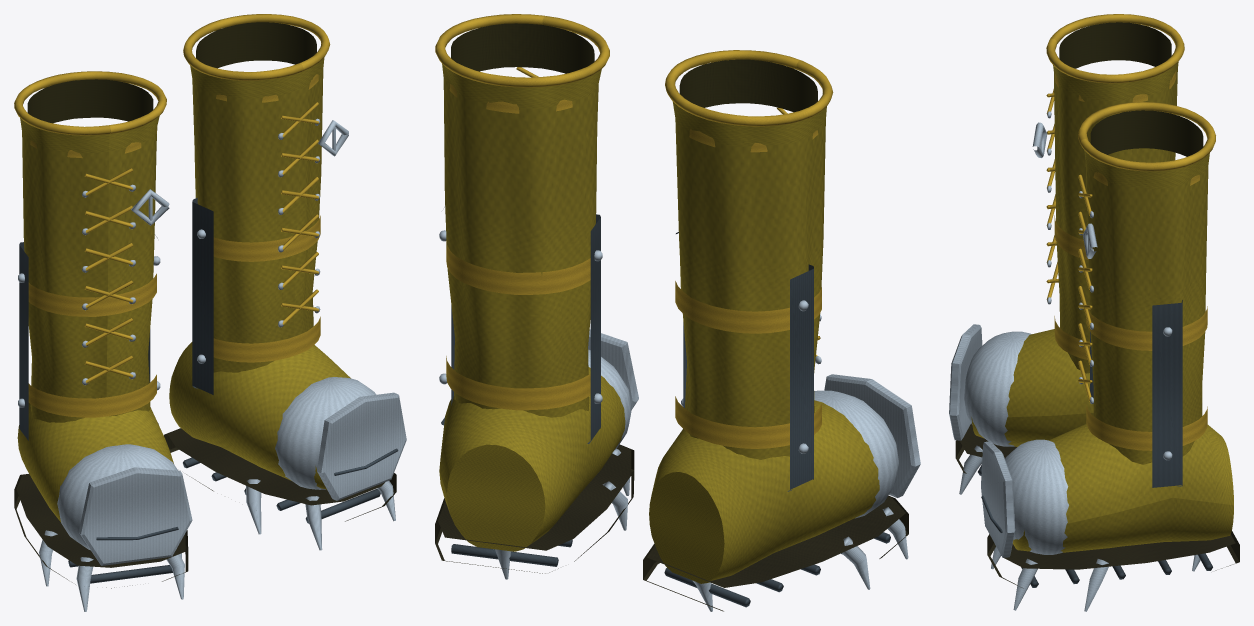
File: climb_boots.glb
3 renders of one model, left to right at view 1: azimuth 30°, elevation 25°; view 2: azimuth 150°, elevation 25°; view 3: azimuth 270°, elevation 25°, orthographic. The views are drawn at different scales.
Visible parts, largest first — view 1: Open leather boot shaft (×2), Olive climbing boot toe/vamp (×2), Steel climbing cap faceplate (×2), Boot fitted horizontal strap (×4), Forged silver climbing toe cap (×2), Dark visible inside cuff (×2), Thick stitched boot sole (×2), Boot cuff rolled outer seam (×2), Steel lateral ankle brace (×2), Forged silver crampon hook (×3), Boot underside traction rib (×2), Rectangular climbing strap buckle; view 2: Open leather boot shaft (×2), Olive climbing boot toe/vamp (×2), Closed sculpted boot heel (×2), Boot fitted horizontal strap (×4), Dark visible inside cuff (×2), Thick stitched boot sole (×2), Boot cuff rolled outer seam (×2), Steel lateral ankle brace (×2), Steel climbing cap faceplate (×2), Forged silver climbing toe cap (×2), Boot underside traction rib (×2); view 3: Open leather boot shaft (×2), Olive climbing boot toe/vamp (×2), Forged silver climbing toe cap (×2), Dark visible inside cuff (×2), Boot cuff rolled outer seam (×2), Steel lateral ankle brace, Thick stitched boot sole (×2), Steel climbing cap faceplate (×2), Boot fitted horizontal strap (×4), Forged silver crampon hook (×3).
Boxes of the visible parts, x1,y1,x2,y2 form: Open leather boot shaft (×2): (20,58,324,422); Olive climbing boot toe/vamp (×2): (17,342,350,521); Steel climbing cap faceplate (×2): (78,392,406,565); Boot fitted horizontal strap (×4): (28,215,320,417); Forged silver climbing toe cap (×2): (57,377,375,550); Dark visible inside cuff (×2): (27,22,316,123); Thick stitched boot sole (×2): (14,428,396,588); Boot cuff rolled outer seam (×2): (14,14,330,135); Steel lateral ankle brace (×2): (19,197,213,440); Forged silver crampon hook (×3): (76,479,322,611); Boot underside traction rib (×2): (90,489,380,583); Rectangular climbing strap buckle: (131,189,169,225); Open leather boot shaft (×2): (442,64,826,459); Olive climbing boot toe/vamp (×2): (439,367,879,582); Closed sculpted boot heel (×2): (447,444,724,583); Boot fitted horizontal strap (×4): (446,240,821,448); Dark visible inside cuff (×2): (451,23,817,112); Thick stitched boot sole (×2): (435,444,908,611); Boot cuff rolled outer seam (×2): (435,14,833,126); Steel lateral ankle brace (×2): (587,214,813,491); Steel climbing cap faceplate (×2): (588,329,920,497); Forged silver climbing toe cap (×2): (588,349,898,518); Boot underside traction rib (×2): (451,544,750,607); Open leather boot shaft (×2): (1053,62,1209,464); Olive climbing boot toe/vamp (×2): (971,329,1233,552); Forged silver climbing toe cap (×2): (964,331,1068,554); Dark visible inside cuff (×2): (1059,22,1203,156); Boot cuff rolled outer seam (×2): (1046,14,1215,171); Steel lateral ankle brace: (1152,300,1182,487); Thick stitched boot sole (×2): (955,423,1239,588); Steel climbing cap faceplate (×2): (949,324,1015,557); Boot fitted horizontal strap (×4): (1054,215,1207,450); Forged silver crampon hook (×3): (959,445,1108,611).
Bounding box in the file's own units: 49.56 × 61.74 × 36.76.
6 materials, 6 textured.
